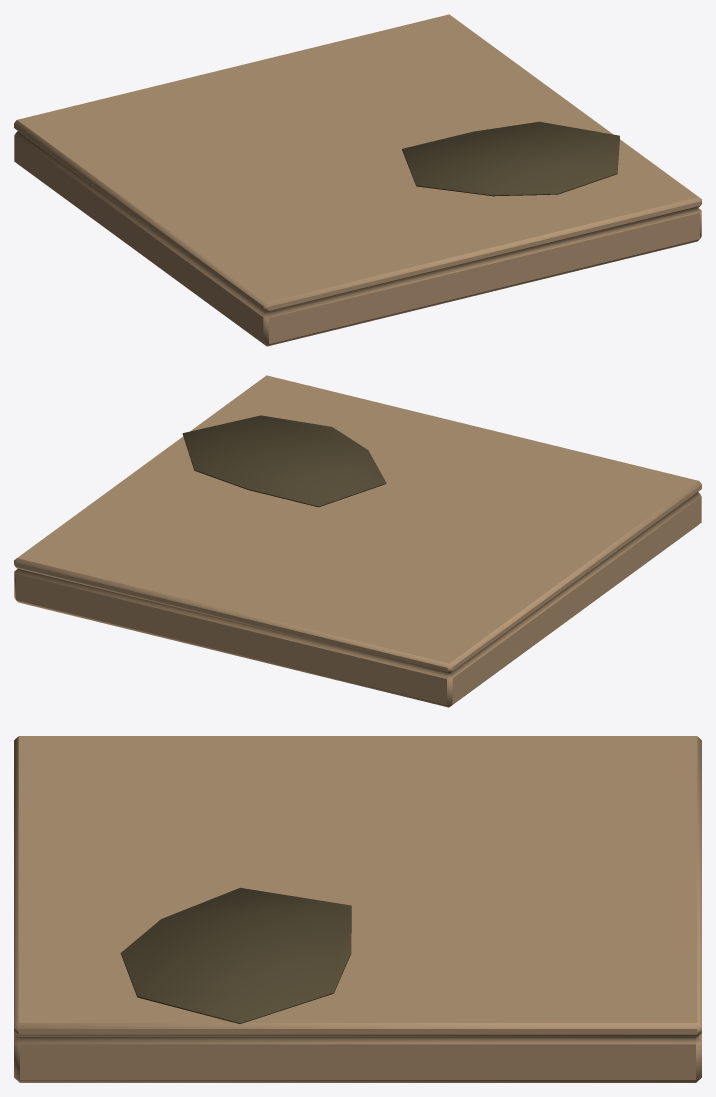
File: pizza_box_closed.glb
3 views of the same model, one above another, from view 1: azimuth 30°, elevation 25°; view 2: azimuth 150°, elevation 25°; view 3: azimuth 270°, elevation 25° (orthographic). The views are drawn at different scales.
Parts seen in each view (by area): view 1: pizza_box_closed; view 2: pizza_box_closed; view 3: pizza_box_closed.
Part boxes in pixels (left/top/right/bottom): pizza_box_closed: left=14, top=14, right=701, bottom=346; pizza_box_closed: left=14, top=375, right=701, bottom=707; pizza_box_closed: left=14, top=736, right=701, bottom=1082.
Bounding box in the file's own units: 0.35 × 0.035 × 0.35.
